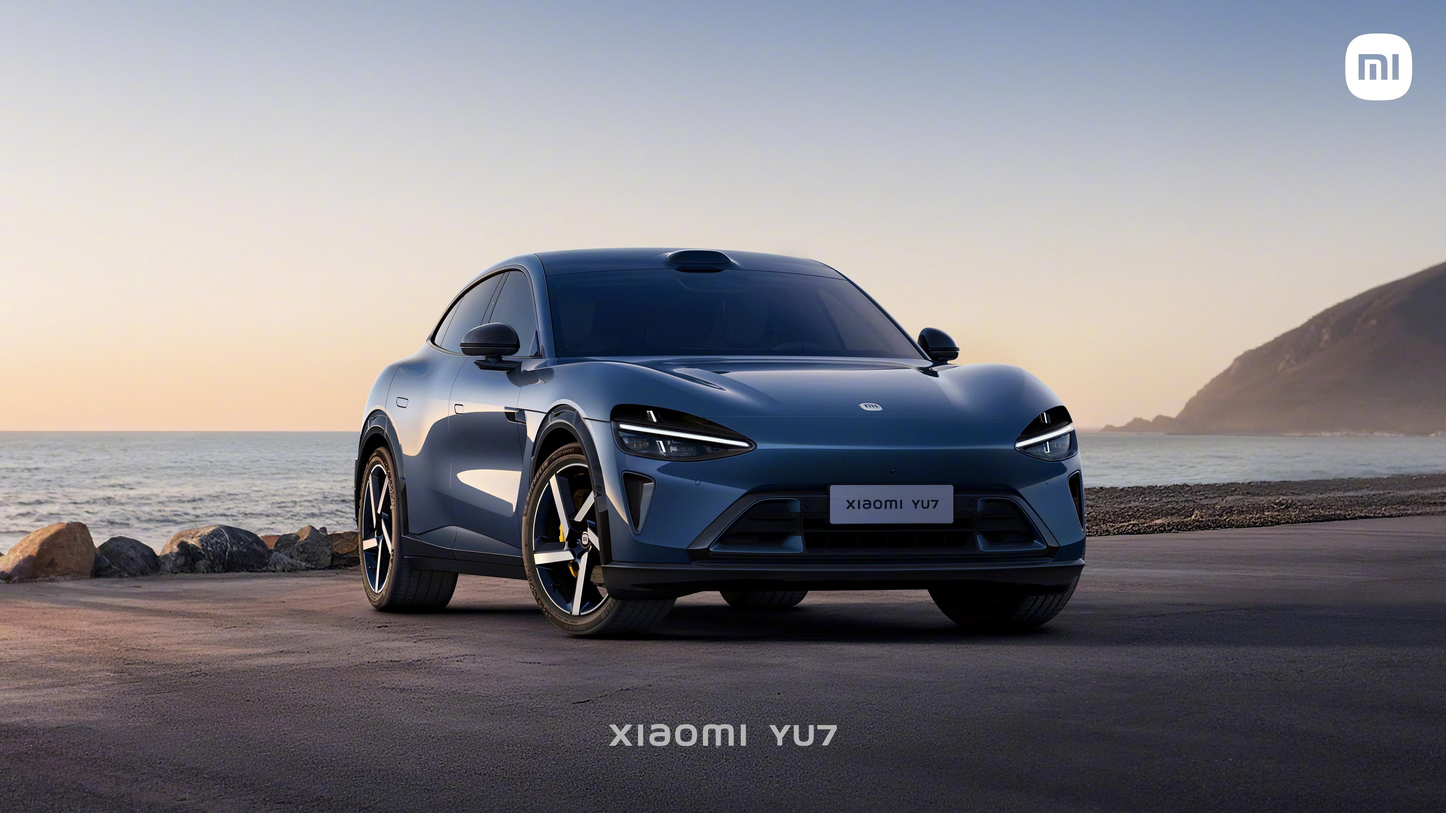other: (348, 232, 1101, 644)
